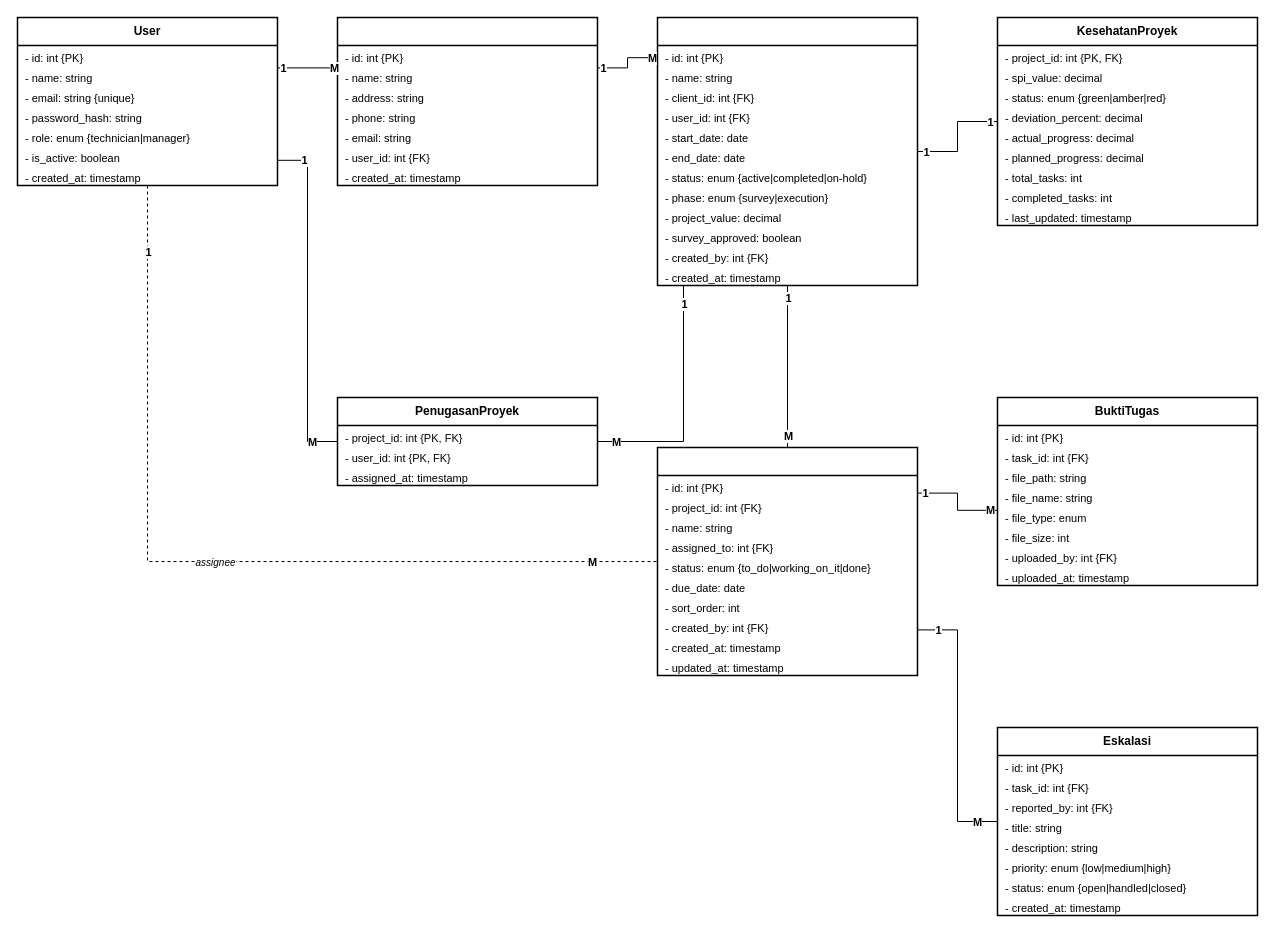
The diagram is 1276 pixels wide and 936 high, and some of its shapes have lost their labels. The box of each missing label's shape, as (x1, y1, x2, y2) in pixels:
Klien: (336, 16, 598, 186)
Proyek: (656, 16, 918, 286)
Tugas: (656, 446, 918, 676)
